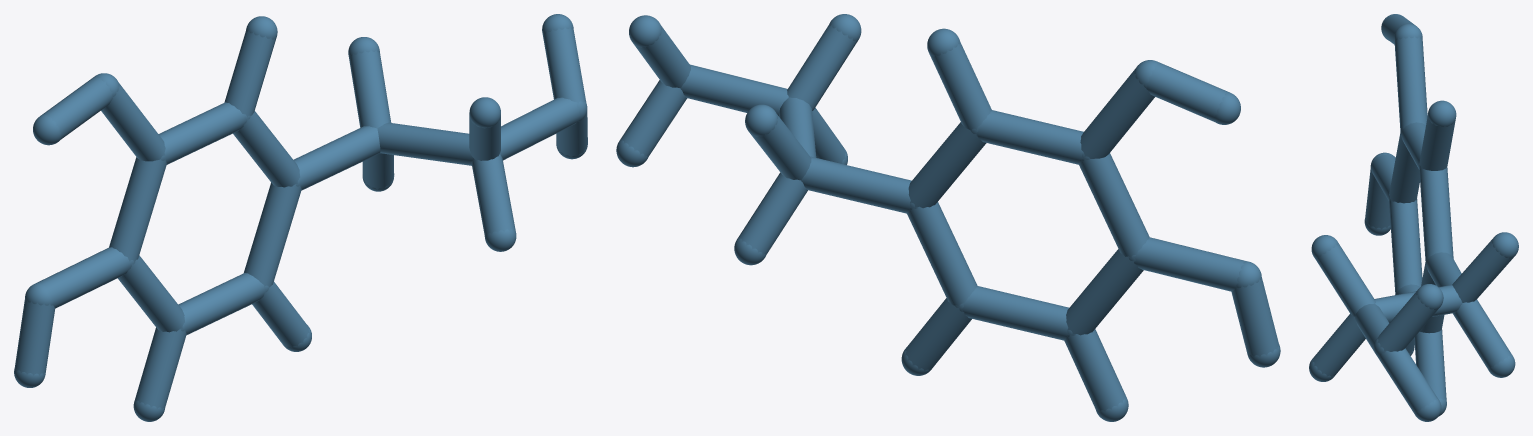
The model's file is 681-sticks-vis_NIH3D.glb.
3 views of the same model, side by side, from view 1: azimuth 30°, elevation 25°; view 2: azimuth 150°, elevation 25°; view 3: azimuth 270°, elevation 25° (orthographic). The views are drawn at different scales.
Parts seen in each view (by area): view 1: bonds, atoms; view 2: bonds, atoms; view 3: bonds, atoms.
Part boxes in pixels (bbox=[...]): bonds: bbox=[14, 26, 587, 409]; atoms: bbox=[14, 14, 587, 421]; bonds: bbox=[620, 23, 1279, 412]; atoms: bbox=[616, 14, 1280, 421]; bonds: bbox=[1312, 14, 1513, 413]; atoms: bbox=[1309, 14, 1518, 421].
Bounding box in the file's own units: 8.7 × 4.92 × 2.95.
